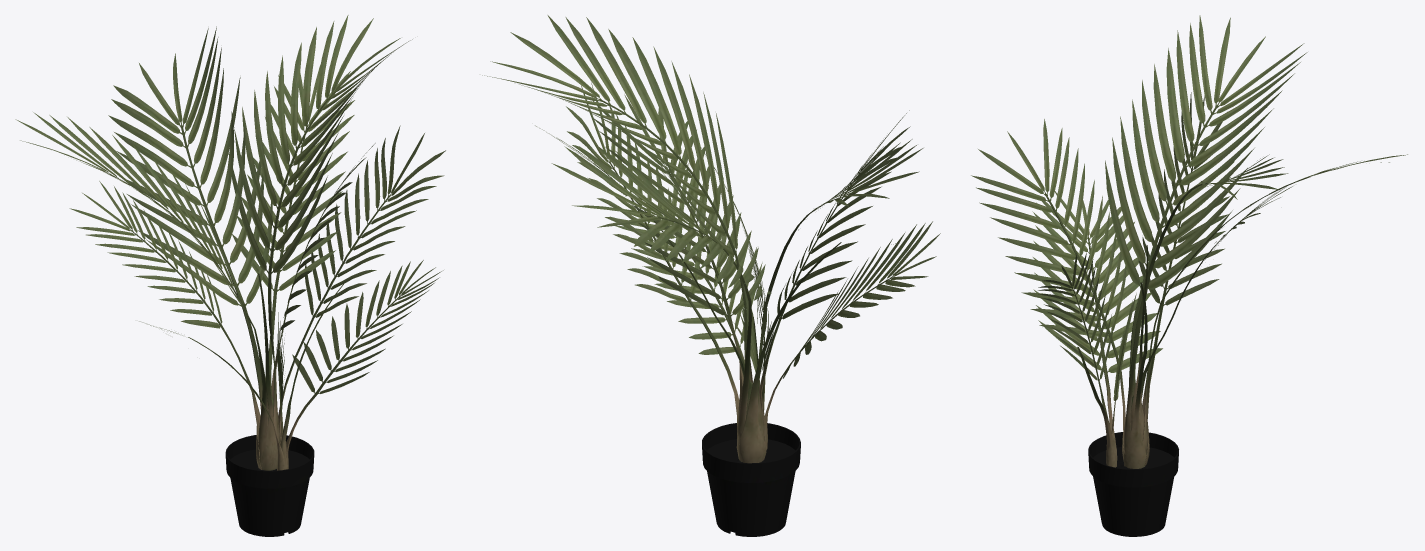
Rendered from plant_pot_00615225.glb.
3 renders of one model, left to right at view 1: azimuth 30°, elevation 25°; view 2: azimuth 150°, elevation 25°; view 3: azimuth 270°, elevation 25°, orthographic. The views are drawn at different scales.
Parts seen in each view (by area): view 1: nodes_0; view 2: nodes_0; view 3: nodes_0.
Part boxes in pixels (bbox=[...]): nodes_0: bbox=[15, 15, 445, 536]; nodes_0: bbox=[482, 15, 940, 536]; nodes_0: bbox=[971, 15, 1407, 536].
Size of the model in its own units: 0.6317 by 0.6802 by 0.6144.
Materials: 1 (1 with a texture image).
